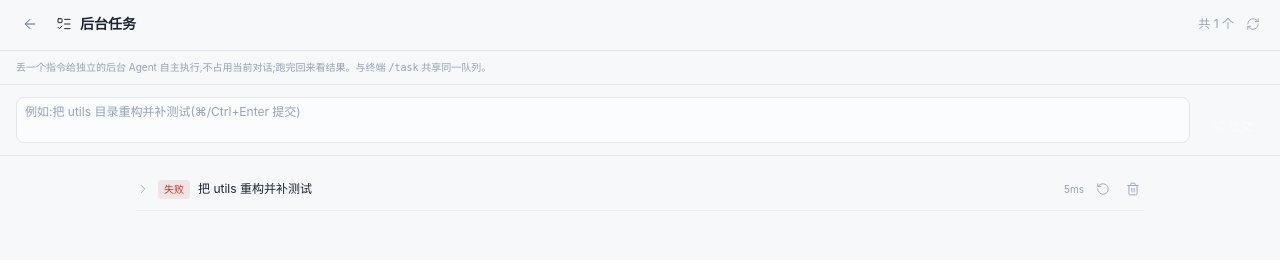
Test: TaskPanel 重试按钮 › add 成功但 delete 失败:新任务已经在跑,如实说一声,不谎报重试失败
The width and height of the screenshot is (1280, 260).
What coordinates should you click on to do the following:
click the button with test id "task-retry"
I would click on:
 (1103, 189)
Its box is left=1092, top=178, right=1114, bottom=200.
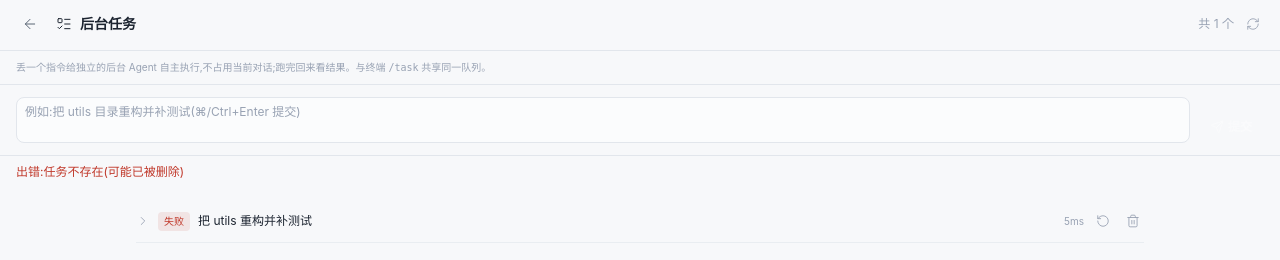
Now the text "出错:任务不存在(可能已被删除)" is shown, box left=16, top=164, right=184, bottom=179
